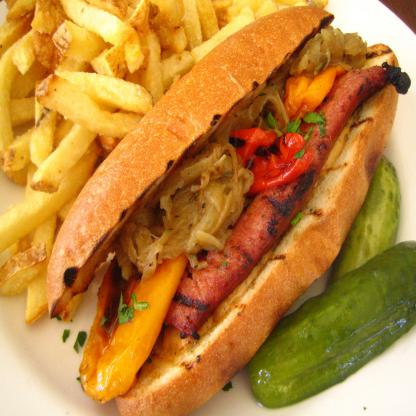Cucumber: (265, 235, 413, 394), (328, 156, 402, 286)
